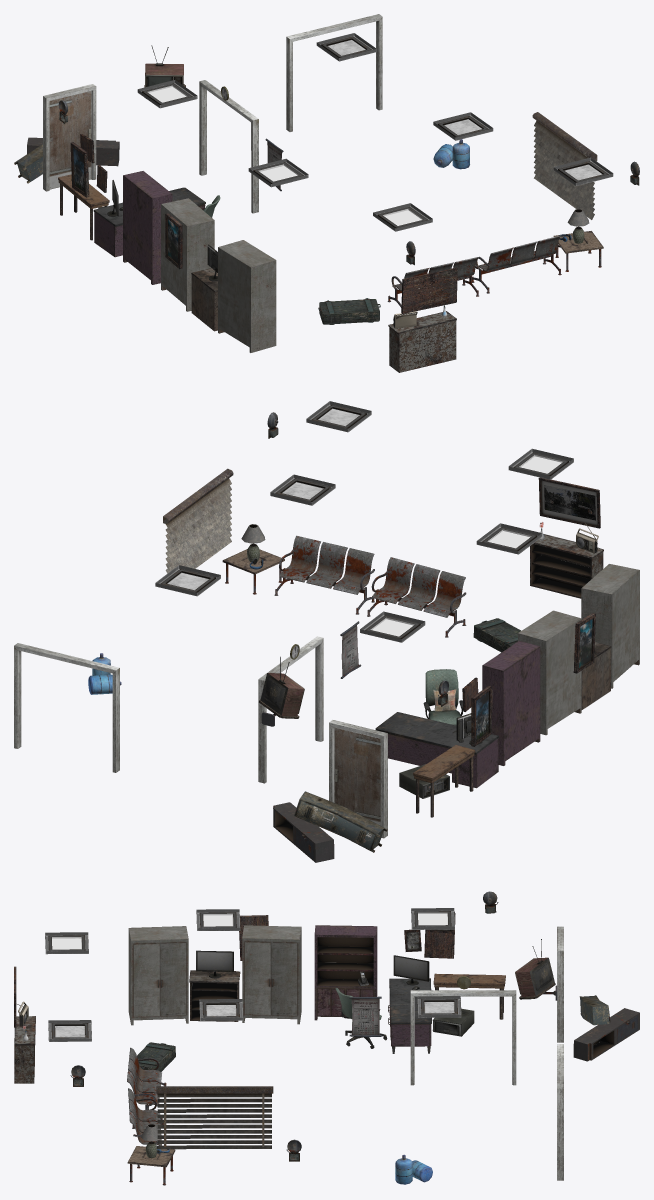
File: A2_Set_02.FBX
The picture shows the model from 3 angles, top to bottom: view 1: azimuth 30°, elevation 25°; view 2: azimuth 150°, elevation 25°; view 3: azimuth 270°, elevation 25°; orthographic projection. The views are drawn at different scales.
Parts seen in each view (by area): view 1: A2_Set_02; view 2: A2_Set_02; view 3: A2_Set_02.
Part boxes in pixels (x1,y1,x2,y2): A2_Set_02: (14, 14, 639, 372); A2_Set_02: (14, 401, 639, 862); A2_Set_02: (14, 891, 639, 1185).
Size of the model in its own units: 941 by 387 by 1372.
1 material, 1 textured.
